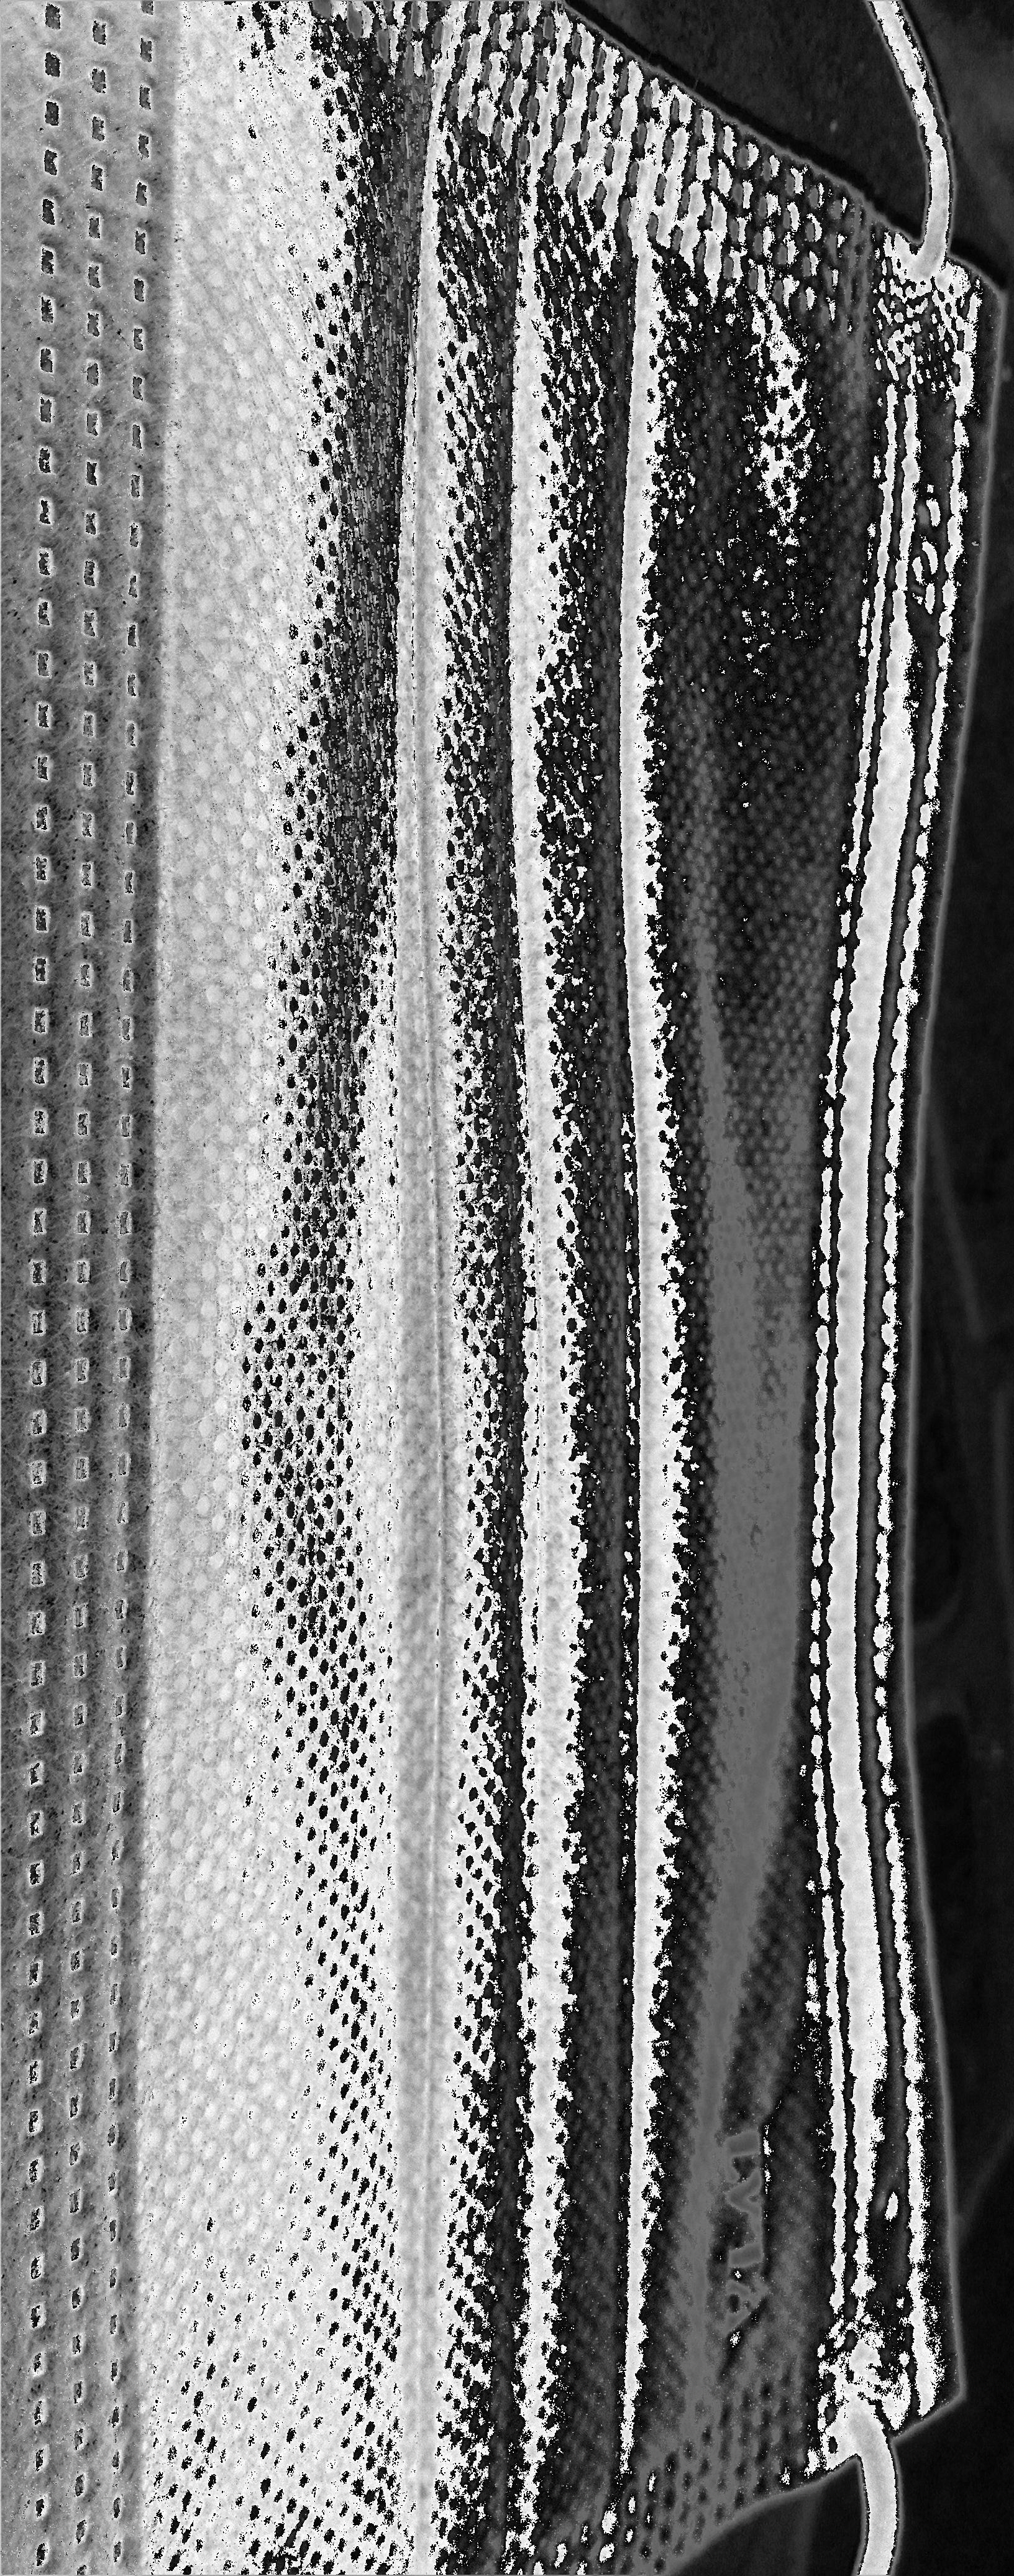High GSM: (151, 376, 814, 2530)
